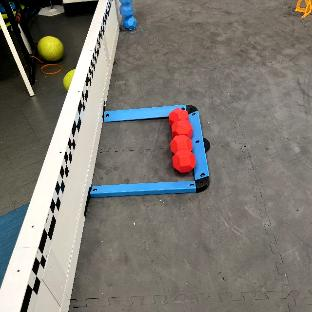V5_BLUE: (120, 0, 136, 29)
V5_RED: (168, 107, 195, 172)
